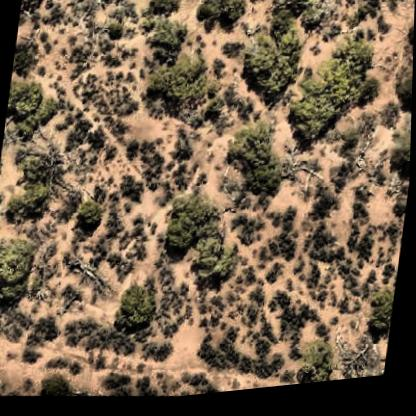tree-top: (284, 54, 374, 161), (219, 119, 288, 211), (140, 49, 218, 127), (234, 26, 304, 111), (188, 312, 264, 387), (184, 231, 248, 298), (162, 194, 223, 264), (234, 145, 291, 211), (4, 74, 60, 137), (3, 173, 60, 233), (0, 233, 41, 309), (111, 282, 163, 338), (289, 341, 343, 392), (140, 19, 194, 68), (194, 0, 254, 40), (366, 291, 396, 346), (70, 195, 109, 235), (262, 0, 320, 21), (389, 135, 412, 187), (140, 0, 185, 22), (392, 82, 413, 123), (11, 47, 36, 81), (78, 0, 146, 12), (40, 375, 73, 399), (403, 20, 415, 71), (19, 0, 47, 13), (0, 350, 1, 395)
